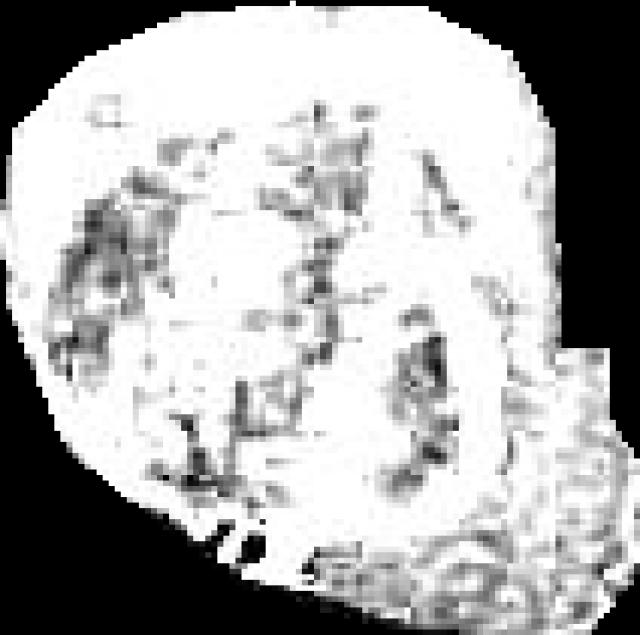tumor_moderate_chance: (0, 1, 640, 635)
